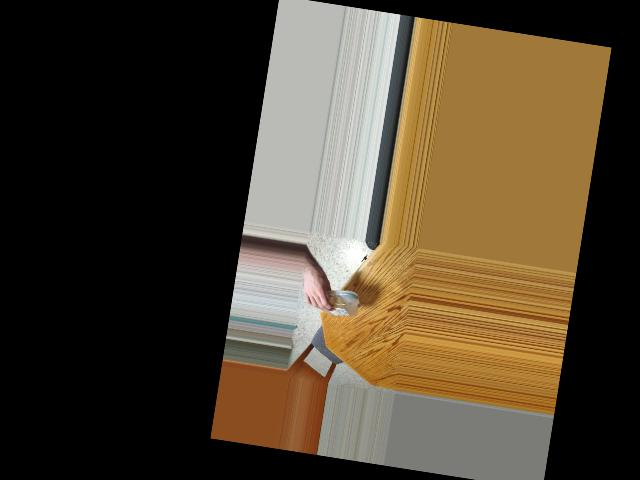cheese: (318, 270, 363, 327)
